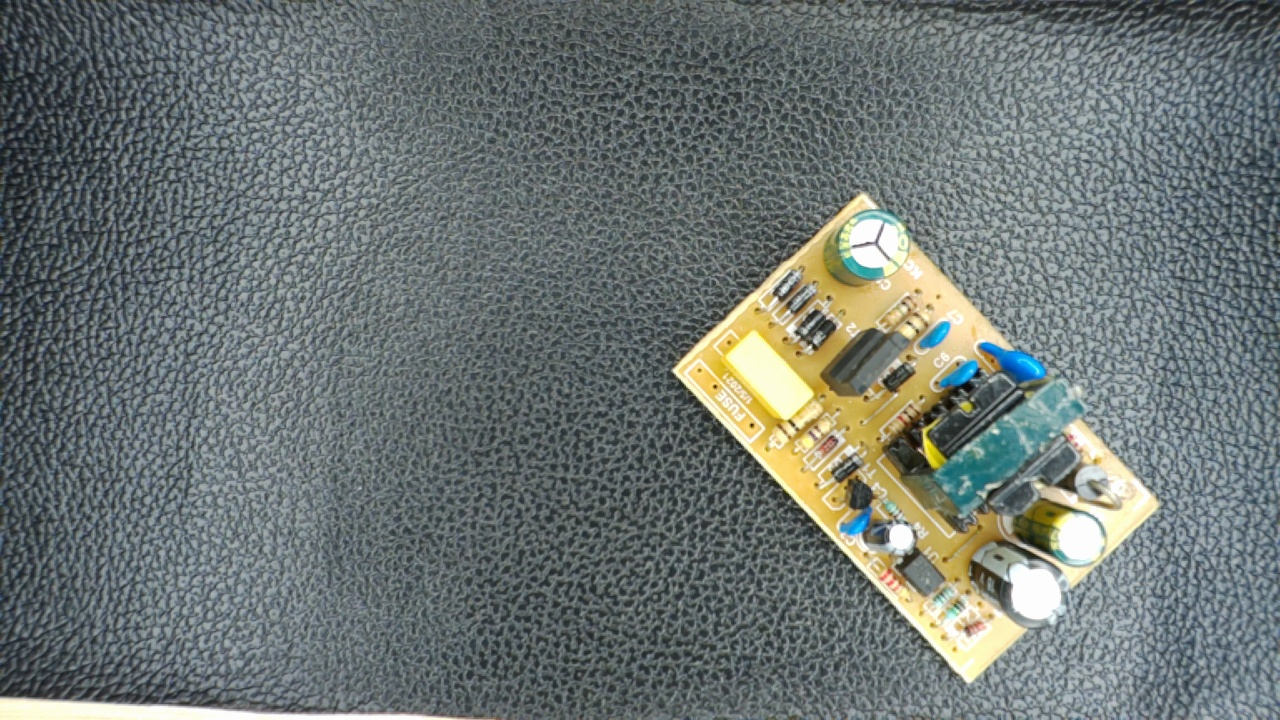hv_capacitor: (822, 210, 914, 285)
mov: (975, 342, 1050, 384)
optocoupler: (893, 543, 947, 603)
